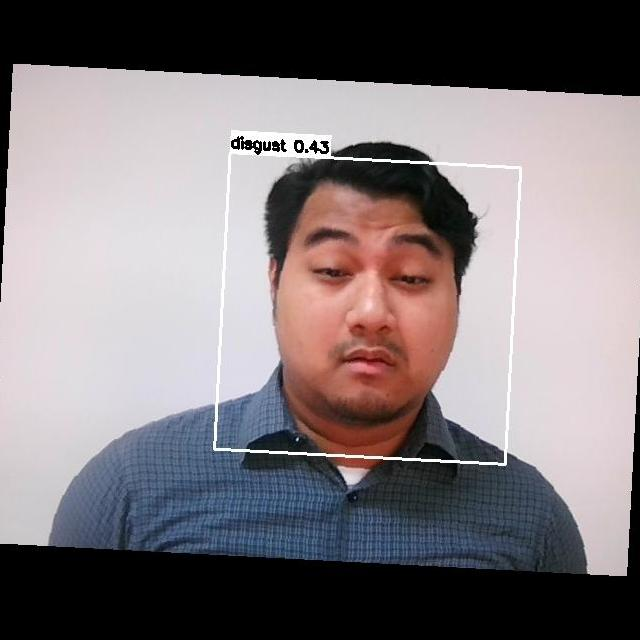Fear: (273, 214, 461, 398)
